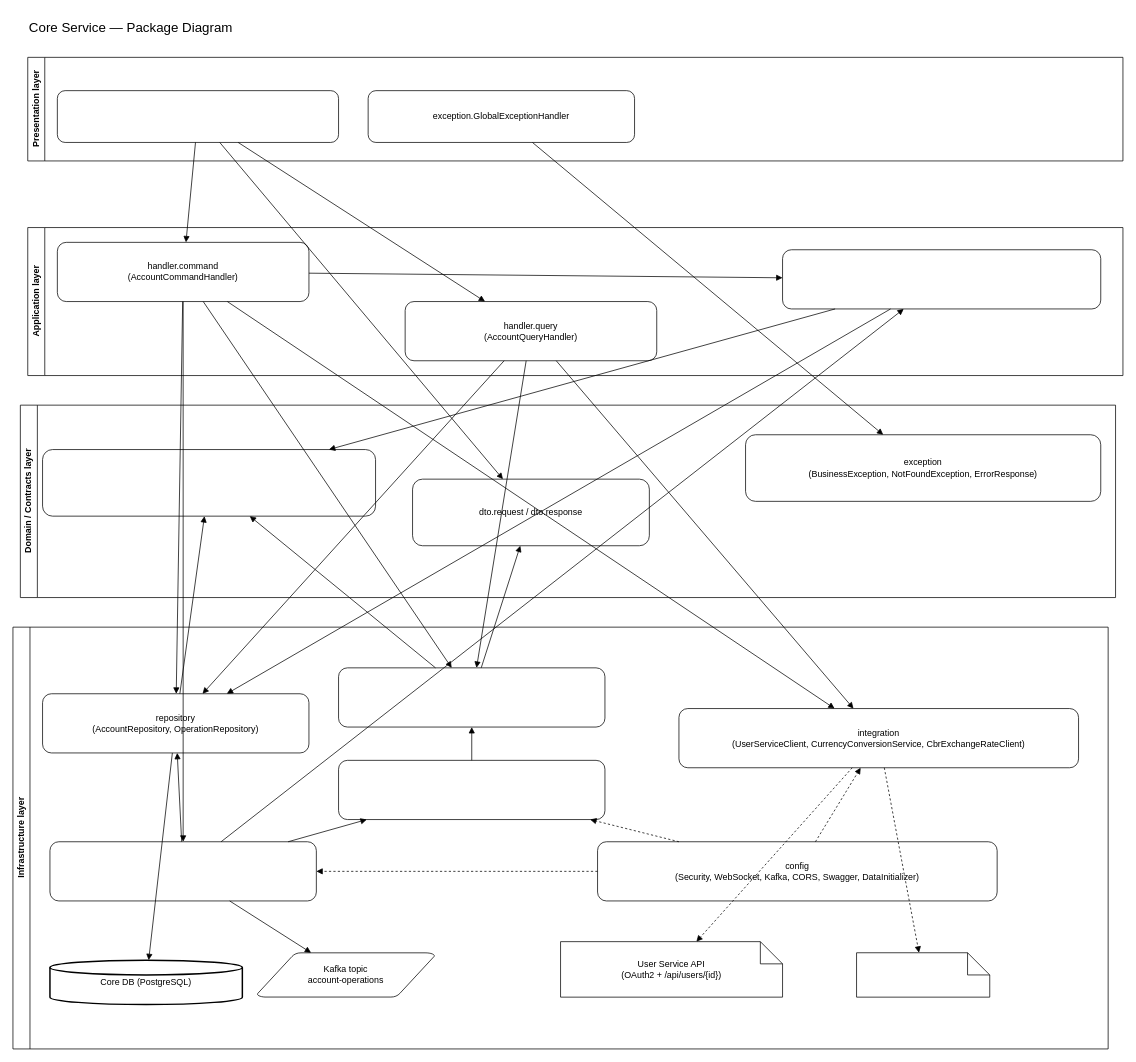
The diagram is 1136 pixels wide and 1062 high, and some of its shapes have lost their labels. The shapes that lost their labels are listed below. From the top down, each one's centre as x and y in pixels, then its label:
point (198, 116): controller.command / controller.query
point (941, 279): service (AccountLookup, AccountBalance, BankMasterAccount)
point (209, 482): entity + entity.enums (AccountEntity, OperationEntity, LoanOperationEntity)
point (471, 697): mapper (AccountMapper, OperationMapper, MoneyMapper)
point (471, 790): ws (OperationWsPublisher, WsJwtChannelInterceptor)
point (182, 871): broker + broker.message (OperationMessageProducer/Consumer)
point (923, 974): CBR Exchange API
